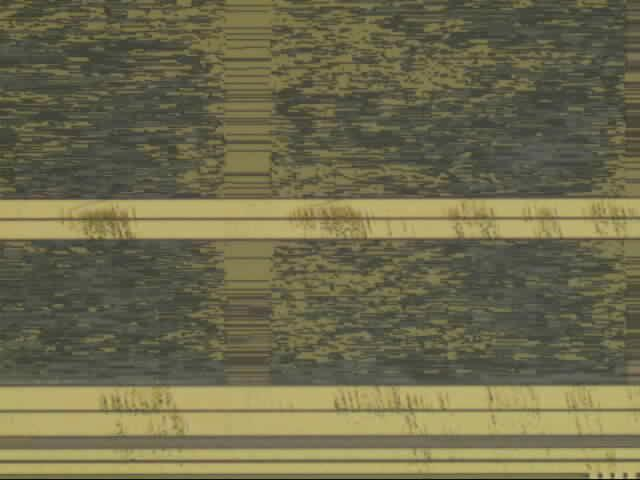SCRATCH: (56, 199, 640, 480)
